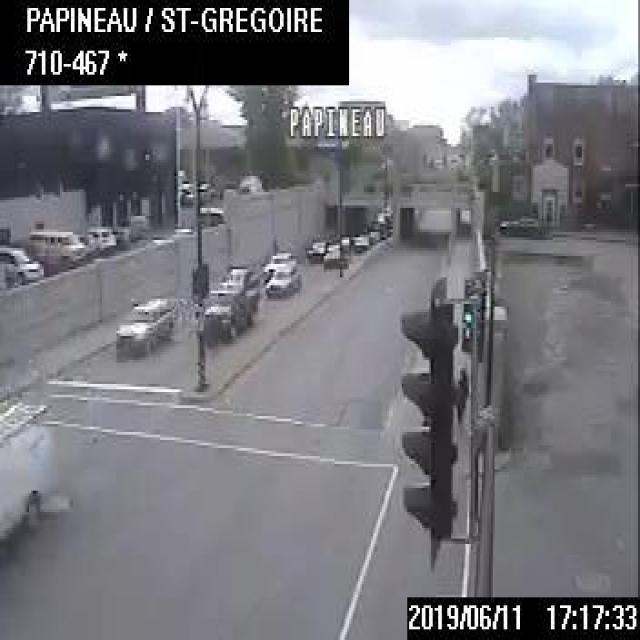vehicle: (0, 395, 49, 541), (112, 293, 174, 352), (202, 291, 259, 339), (27, 229, 88, 270), (0, 244, 44, 279), (262, 260, 302, 295), (216, 263, 259, 292), (112, 213, 145, 250), (87, 223, 114, 256), (262, 249, 296, 273), (322, 248, 344, 267), (306, 236, 326, 256), (351, 235, 367, 248)
